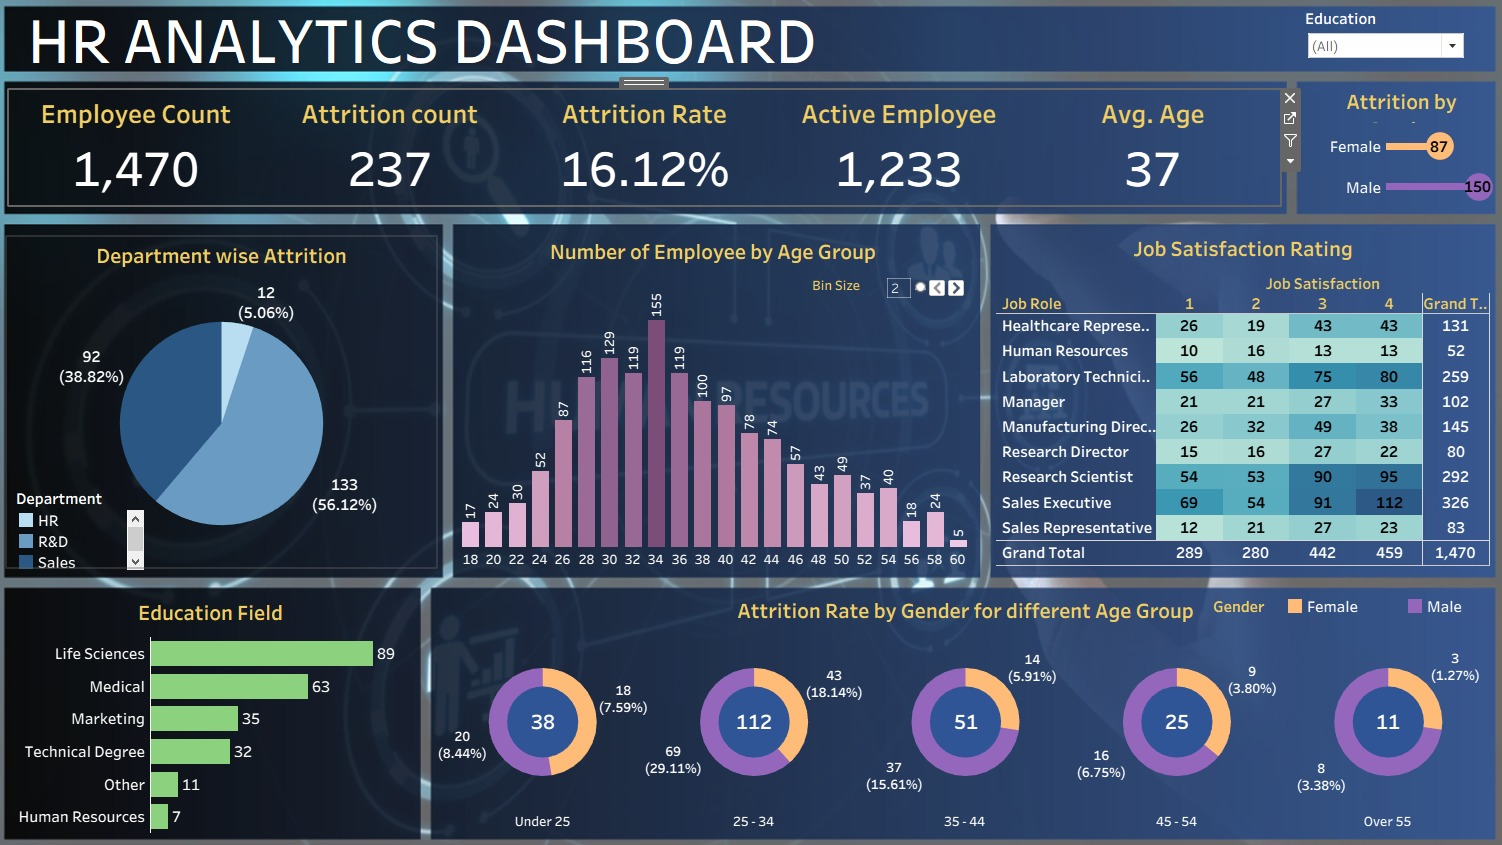

Layout of this report page (visuals, bound fields, positions):
{"tool":"tableau","page":{"name":"HR Analytics Dashboard","canvas":[1595,870],"ordinal":0},"visuals":[{"type":"image","param":"Image/HR background.pptx.png","box":[8,8,1579,854]},{"type":"filter","title":"Department wise Attrition","param":"[federated.0q1gnjd05ma5k0142i6670k4l1f9].[none:Education:nk]","box":[1352,20,162,57]},{"type":"text","box":[71,23,809,56]},{"type":"worksheet","title":"Attrition by Gender","mark":"Automatic","rows":["Gender"],"cols":["Calculation_0960202599702528","Calculation_0960202599702528"],"box":[1353,95,191,124]},{"type":"worksheet","title":"KPI","mark":"Automatic","box":[56,102,1271,115]},{"type":"worksheet","title":"Job Satisfaction Rating","mark":"Square","rows":["Job Role"],"cols":["Job Satisfaction"],"box":[1043,242,494,336]},{"type":"worksheet","title":"Number of Employee by Age Group ","mark":"Automatic","rows":["Employee Count"],"cols":["Age (bin)"],"box":[506,245,512,336]},{"type":"worksheet","title":"Department wise Attrition","mark":"Pie","box":[54,249,429,330]},{"type":"parameter","param":"[Parameters].[Parameter 1]","box":[859.1,287.1,155.5,38.7]},{"type":"legend","title":"Department wise Attrition","param":"[federated.0q1gnjd05ma5k0142i6670k4l1f9].[none:Department:nk]","box":[63,500,130,82]},{"type":"worksheet","title":"Attrition Rate by Gender for different Age Group","mark":"Pie","rows":["Calculation_0248269332176898","Calculation_0248269332176898"],"cols":["CF_age band"],"box":[484,604,1057,239]},{"type":"worksheet","title":"Education Field","mark":"Automatic","rows":["Education Field"],"cols":["Calculation_0960202599702528"],"box":[57,606,401,239]},{"type":"legend","title":"Attrition Rate by Gender for different Age Group","param":"[federated.0q1gnjd05ma5k0142i6670k4l1f9].[none:Gender:nk]","box":[1259.8,608,322,30]}]}

Visuals, with their boxes on the page's 1595x870 design canvas (x1, y1, x2, y2). These are canvas units, not pixel positions in the 1502x845 screenshot, which may show the page scaled, cropped or inside an application window:
image: {"x1": 8, "y1": 8, "x2": 1587, "y2": 862}
"Department wise Attrition" filter: {"x1": 1352, "y1": 20, "x2": 1514, "y2": 77}
text: {"x1": 71, "y1": 23, "x2": 880, "y2": 79}
"Attrition by Gender" worksheet: {"x1": 1353, "y1": 95, "x2": 1544, "y2": 219}
"KPI" worksheet: {"x1": 56, "y1": 102, "x2": 1327, "y2": 217}
"Job Satisfaction Rating" worksheet (Square marks): {"x1": 1043, "y1": 242, "x2": 1537, "y2": 578}
"Number of Employee by Age Group " worksheet: {"x1": 506, "y1": 245, "x2": 1018, "y2": 581}
"Department wise Attrition" worksheet (Pie marks): {"x1": 54, "y1": 249, "x2": 483, "y2": 579}
parameter: {"x1": 859, "y1": 287, "x2": 1015, "y2": 326}
"Department wise Attrition" legend: {"x1": 63, "y1": 500, "x2": 193, "y2": 582}
"Attrition Rate by Gender for different Age Group" worksheet (Pie marks): {"x1": 484, "y1": 604, "x2": 1541, "y2": 843}
"Education Field" worksheet: {"x1": 57, "y1": 606, "x2": 458, "y2": 845}
"Attrition Rate by Gender for different Age Group" legend: {"x1": 1260, "y1": 608, "x2": 1582, "y2": 638}
